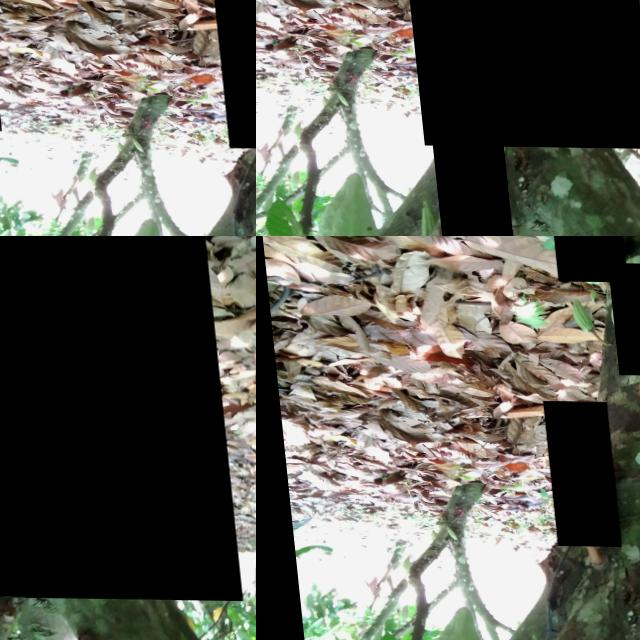Fitoftora: (537, 400, 612, 546)
Sana: (0, 236, 230, 599), (385, 0, 640, 146), (422, 139, 501, 236), (604, 261, 640, 374), (545, 236, 624, 280), (408, 610, 486, 640)
